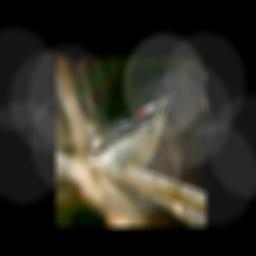Woodpecker: (72, 90, 176, 175)
